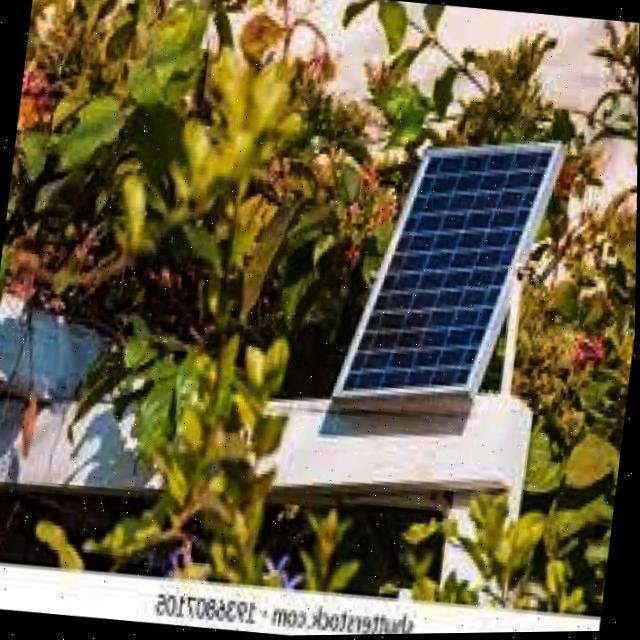Normal Solar Panel: (334, 132, 554, 419)
